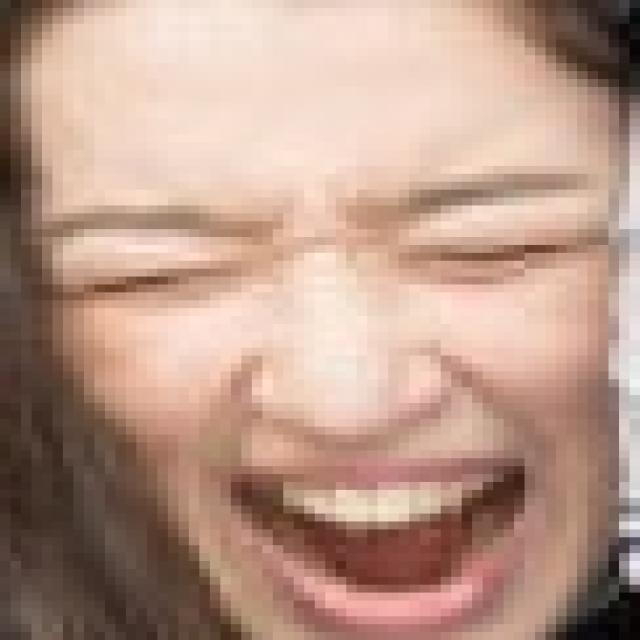Anxiety: (0, 0, 623, 632)
